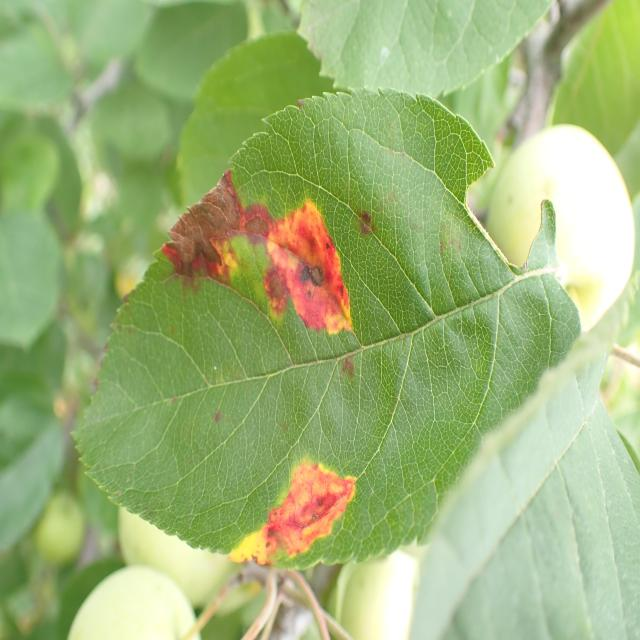Rust: (114, 162, 392, 333), (204, 451, 365, 583)
